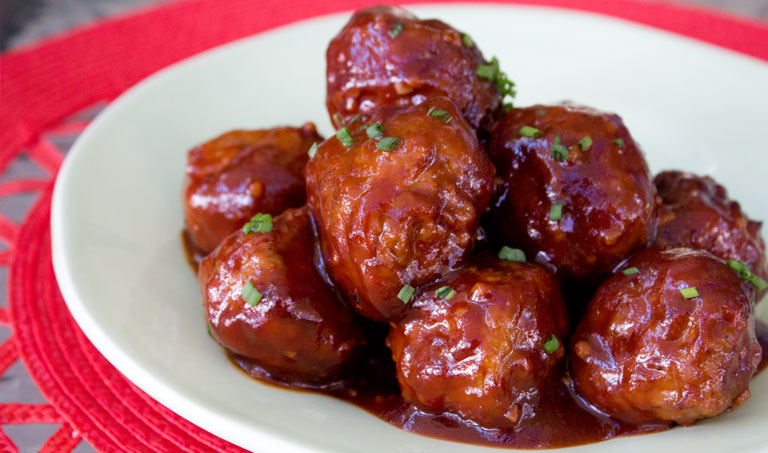meatballs: (516, 114, 751, 407), (301, 120, 518, 312)
